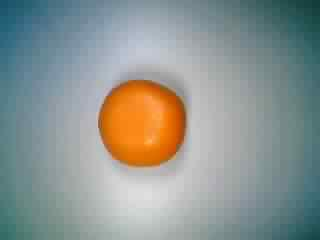orange: (92, 76, 188, 172)
